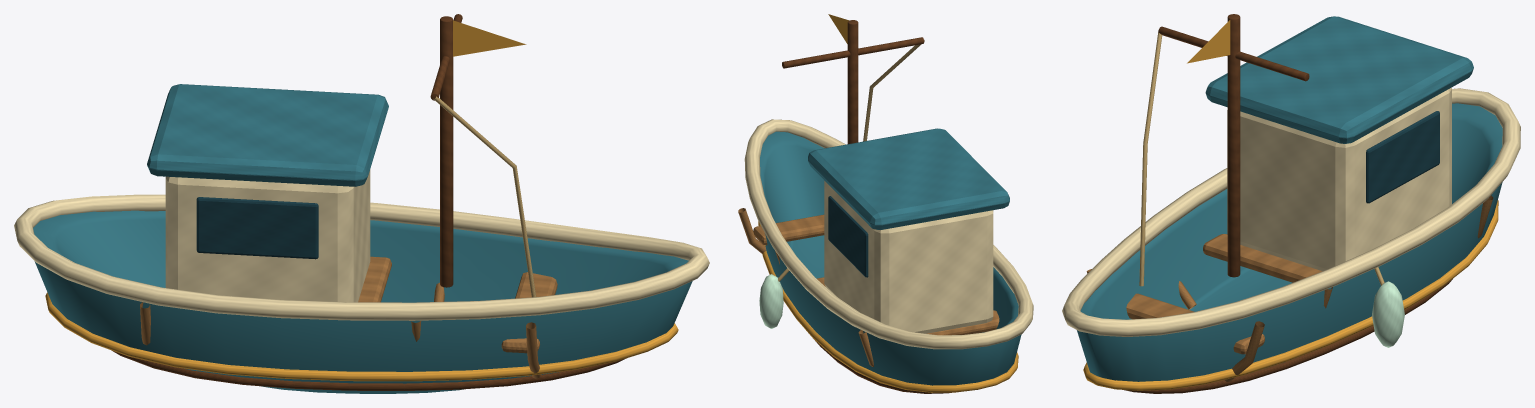
Rendered from Boat_At_Sea.fbx.
3 renders of one model, left to right at view 1: azimuth 30°, elevation 25°; view 2: azimuth 150°, elevation 25°; view 3: azimuth 270°, elevation 25°, orthographic. The views are drawn at different scales.
Parts seen in each view (by area): view 1: Boat_At_Sea; view 2: Boat_At_Sea; view 3: Boat_At_Sea.
Part boxes in pixels (left/top/right/bottom): Boat_At_Sea: left=14, top=14, right=709, bottom=393; Boat_At_Sea: left=738, top=14, right=1033, bottom=393; Boat_At_Sea: left=1062, top=14, right=1520, bottom=393.
Bounding box in the file's own units: 612 × 499 × 410.
